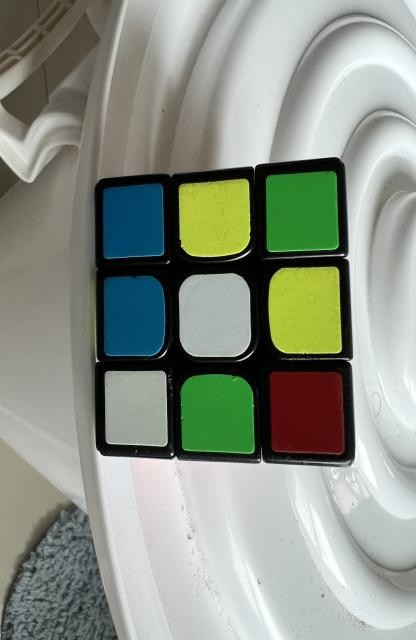Blue: (103, 276, 166, 356), (103, 182, 165, 259)
Green: (265, 171, 339, 252), (181, 374, 255, 454)
Red: (270, 371, 344, 455)
White: (179, 272, 251, 358), (104, 370, 168, 446)
Yellow: (269, 266, 342, 354), (179, 179, 250, 258)
